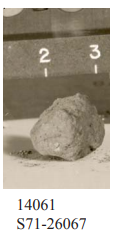Breccia: (33, 81, 99, 161)
